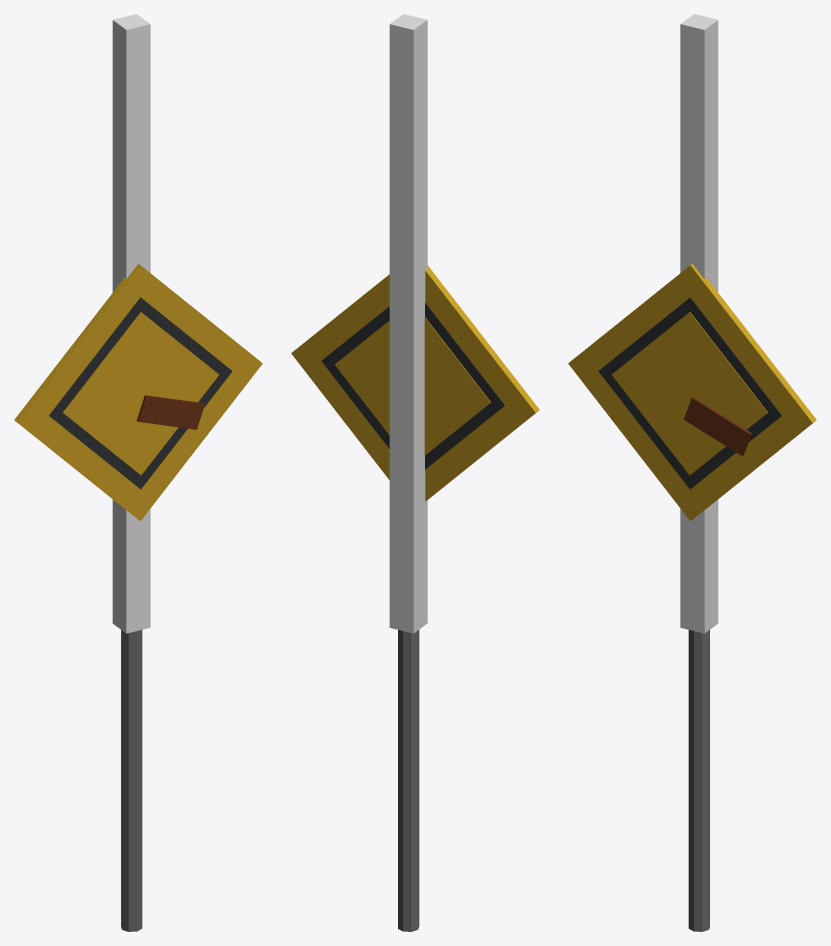
File: RoadSign.fbx
3 renders of one model, left to right at view 1: azimuth 30°, elevation 25°; view 2: azimuth 150°, elevation 25°; view 3: azimuth 330°, elevation 25°, orthographic.
Parts seen in each view (by area): view 1: RoadSign, COL_RoadSign_0; view 2: RoadSign, COL_RoadSign_0; view 3: RoadSign, COL_RoadSign_0.
Boxes of the visible parts, x1=… form: RoadSign: x1=14, y1=264, x2=262, y2=931; COL_RoadSign_0: x1=112, y1=14, x2=150, y2=633; RoadSign: x1=291, y1=265, x2=539, y2=931; COL_RoadSign_0: x1=389, y1=14, x2=427, y2=633; RoadSign: x1=568, y1=264, x2=816, y2=931; COL_RoadSign_0: x1=680, y1=14, x2=718, y2=633.
Size of the model in its own units: 1.02 by 3.6 by 0.131.
